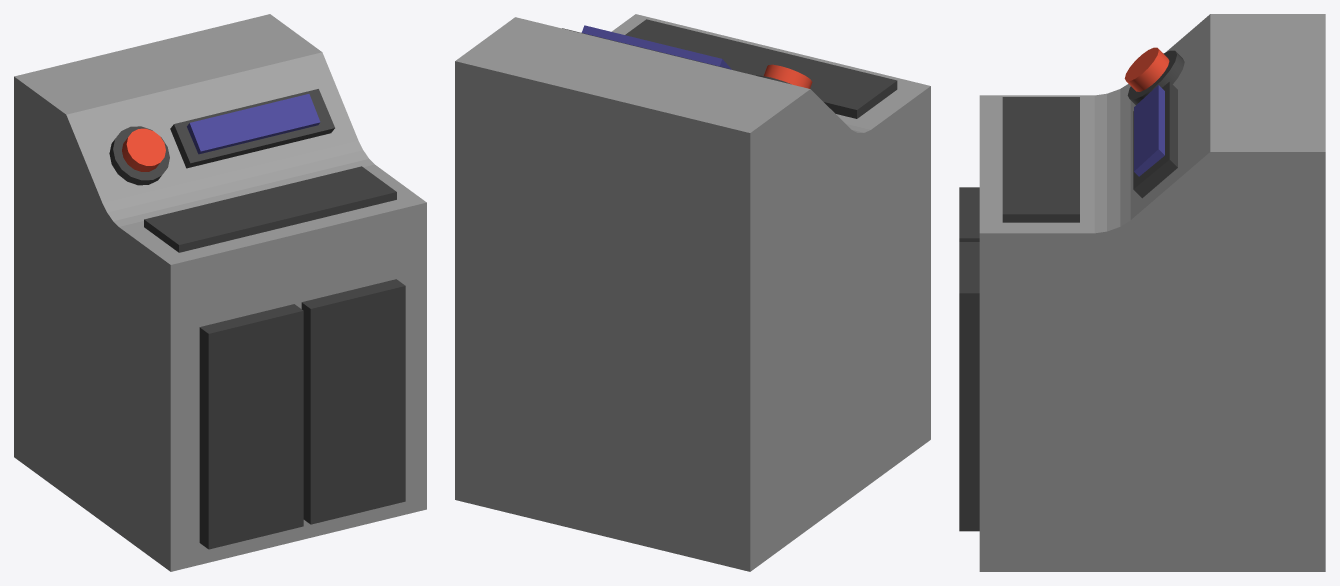
Rendered from maquina3.fbx.
3 renders of one model, left to right at view 1: azimuth 30°, elevation 25°; view 2: azimuth 150°, elevation 25°; view 3: azimuth 270°, elevation 25°, orthographic. The views are drawn at different scales.
Parts seen in each view (by area): view 1: Maquina3; view 2: Maquina3; view 3: Maquina3.
Boxes of the visible parts, x1,y1,x2,y2 form: Maquina3: [14, 14, 426, 571]; Maquina3: [455, 14, 930, 571]; Maquina3: [959, 14, 1325, 571].
Size of the model in its own units: 147 by 208 by 165.
